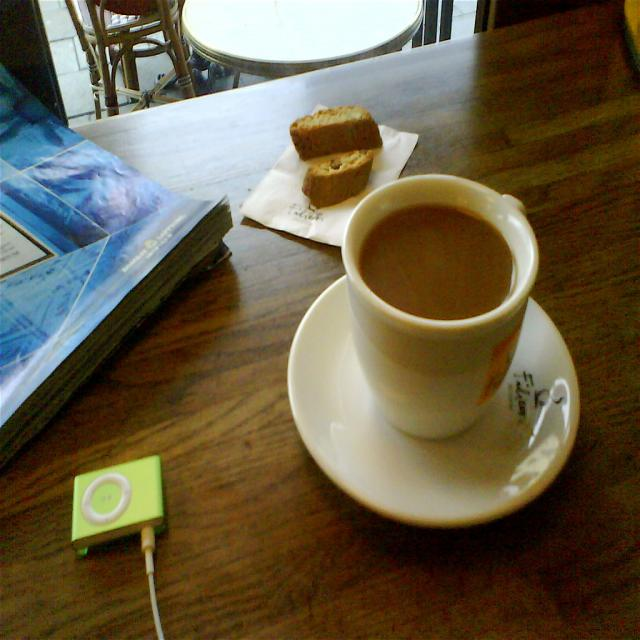Coffee: (360, 198, 516, 322)
Tea: (360, 208, 516, 322)
